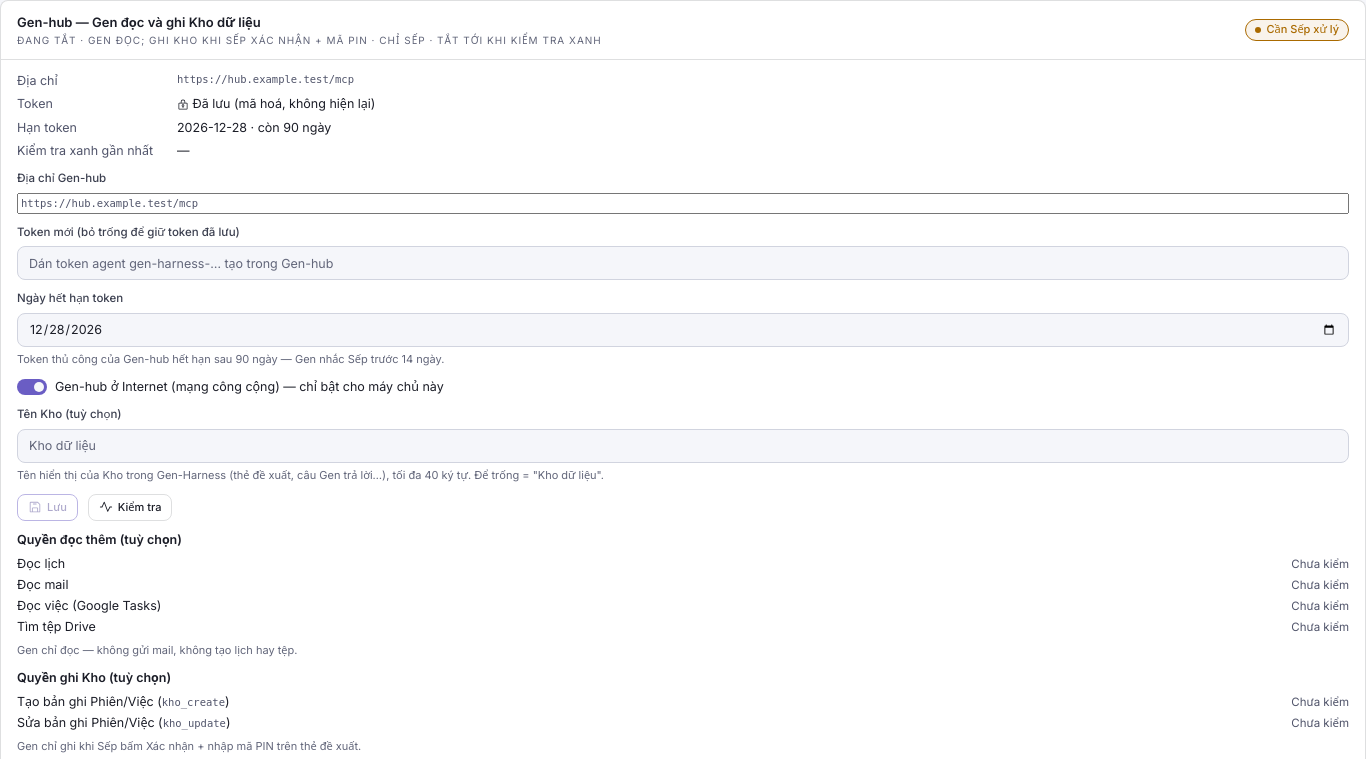
Test case: Thẻ Gen-hub › Kiểm tra → POST /hub/link/test, hiện kết quả và trạng thái "Đang nối"
Click the button "Kiểm tra".
click(130, 507)  # box [88,494,172,521]
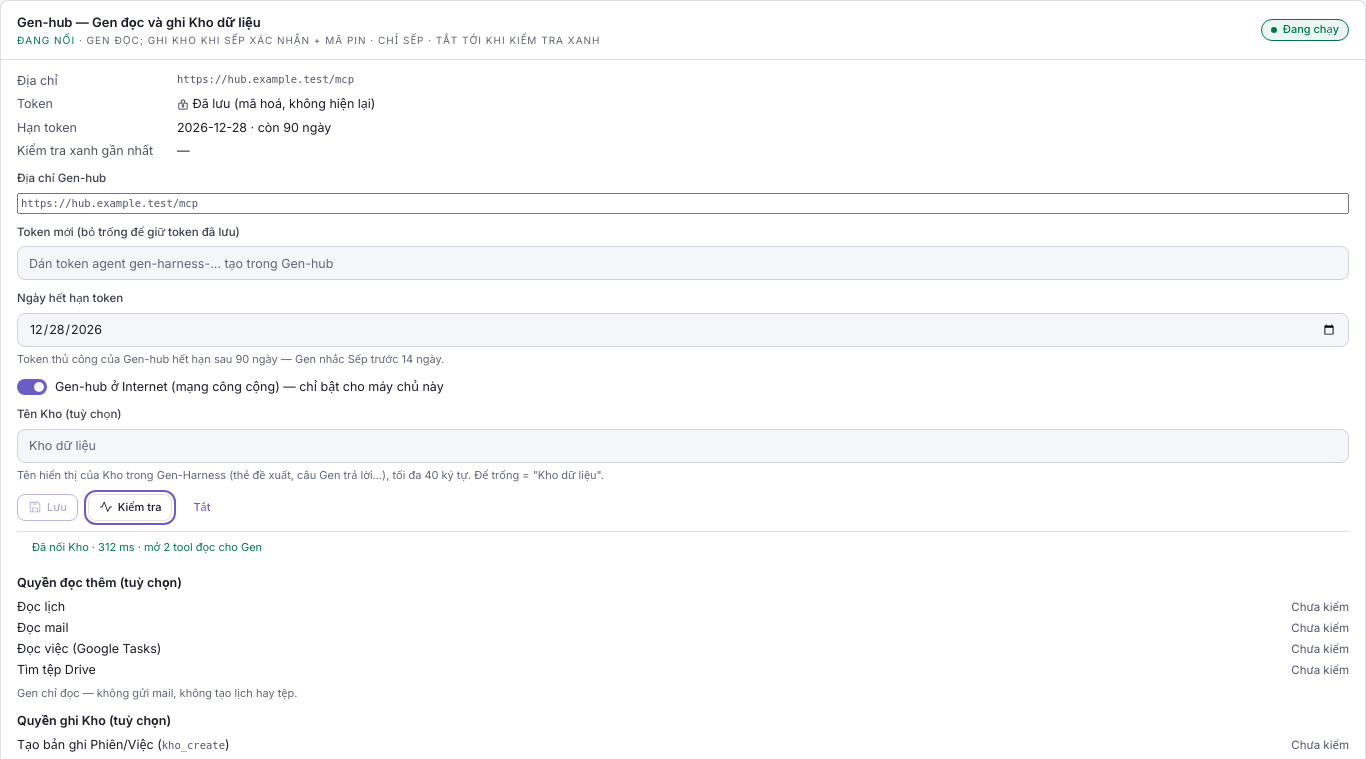
Expected: the button "Tắt" is shown, [182,494,222,521]
Expected: the text "Đã nối Kho · 312 ms · mở 2 tool đọc cho Gen" is shown, [17,531,1349,564]
Expected: the text "Đang nối" is shown, [17,34,75,46]
